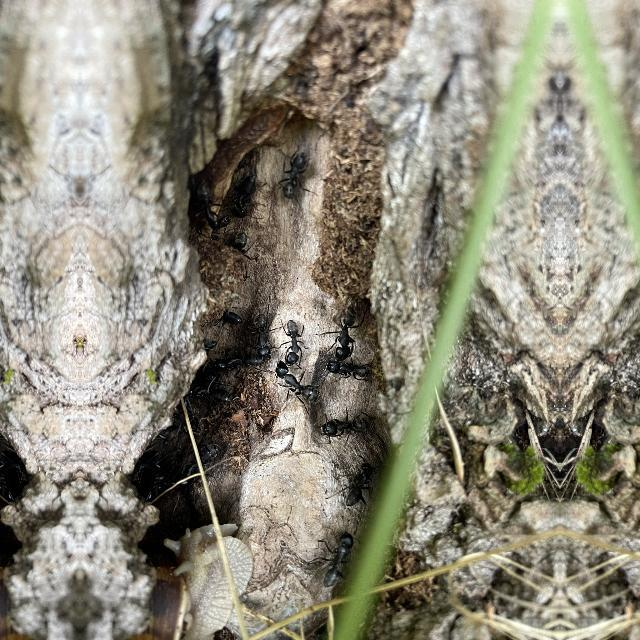Camponotus: (314, 522, 362, 598), (314, 404, 372, 451), (274, 141, 314, 207), (178, 434, 226, 488), (186, 175, 226, 239), (326, 296, 364, 362), (272, 360, 322, 410), (338, 457, 378, 515), (139, 449, 175, 513), (188, 372, 236, 412), (228, 168, 262, 224), (321, 354, 374, 388), (212, 346, 268, 378), (280, 312, 308, 368), (248, 306, 274, 366), (0, 449, 20, 513), (222, 222, 254, 260), (215, 296, 248, 330)
